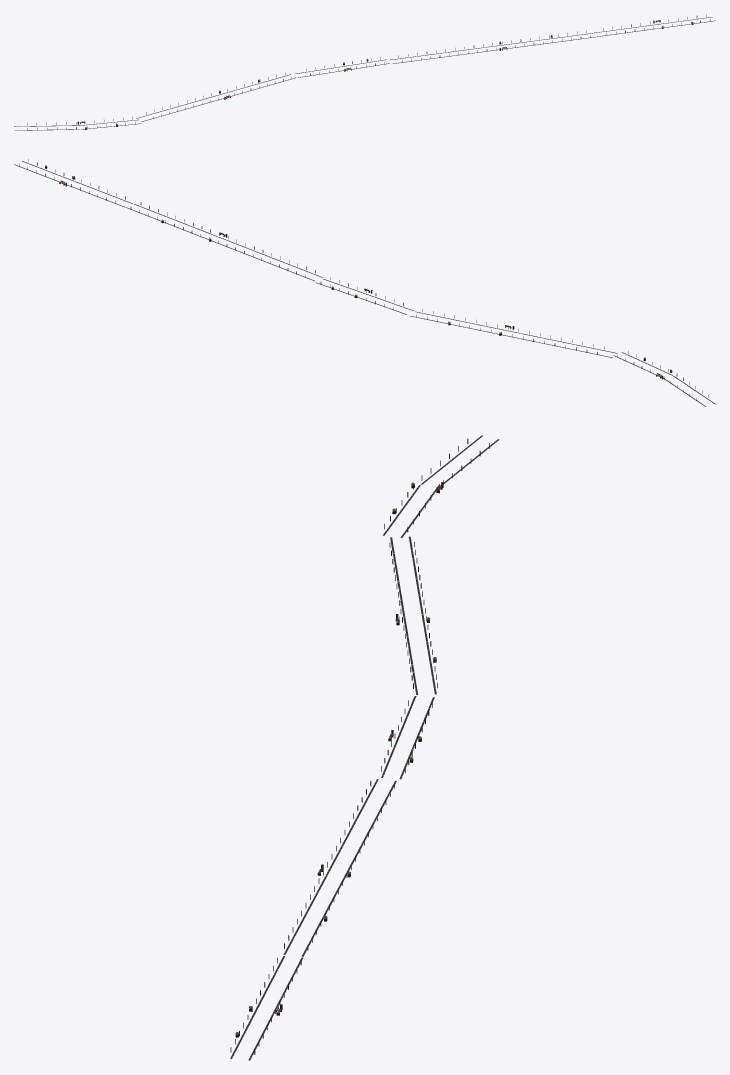
Rendered from CEN01-SOL-MOB.glb.
The picture shows the model from 3 angles, top to bottom: view 1: azimuth 30°, elevation 25°; view 2: azimuth 150°, elevation 25°; view 3: azimuth 270°, elevation 25°; orthographic projection. The views are drawn at different scales.
Visible parts, largest first — view 1: Sol_canaletas, Sol_bolardos; view 2: Sol_canaletas, Sol_bolardos; view 3: Sol_canaletas, Sol_bolardos.
Part boxes in pixels (left/top/right/bottom): Sol_canaletas: left=14, top=17, right=715, bottom=130; Sol_bolardos: left=27, top=14, right=710, bottom=130; Sol_canaletas: left=14, top=161, right=715, bottom=406; Sol_bolardos: left=19, top=159, right=708, bottom=400; Sol_canaletas: left=230, top=435, right=499, bottom=1060; Sol_bolardos: left=230, top=439, right=489, bottom=1054.
Size of the model in its own units: 225 by 1.03 by 41.11.
